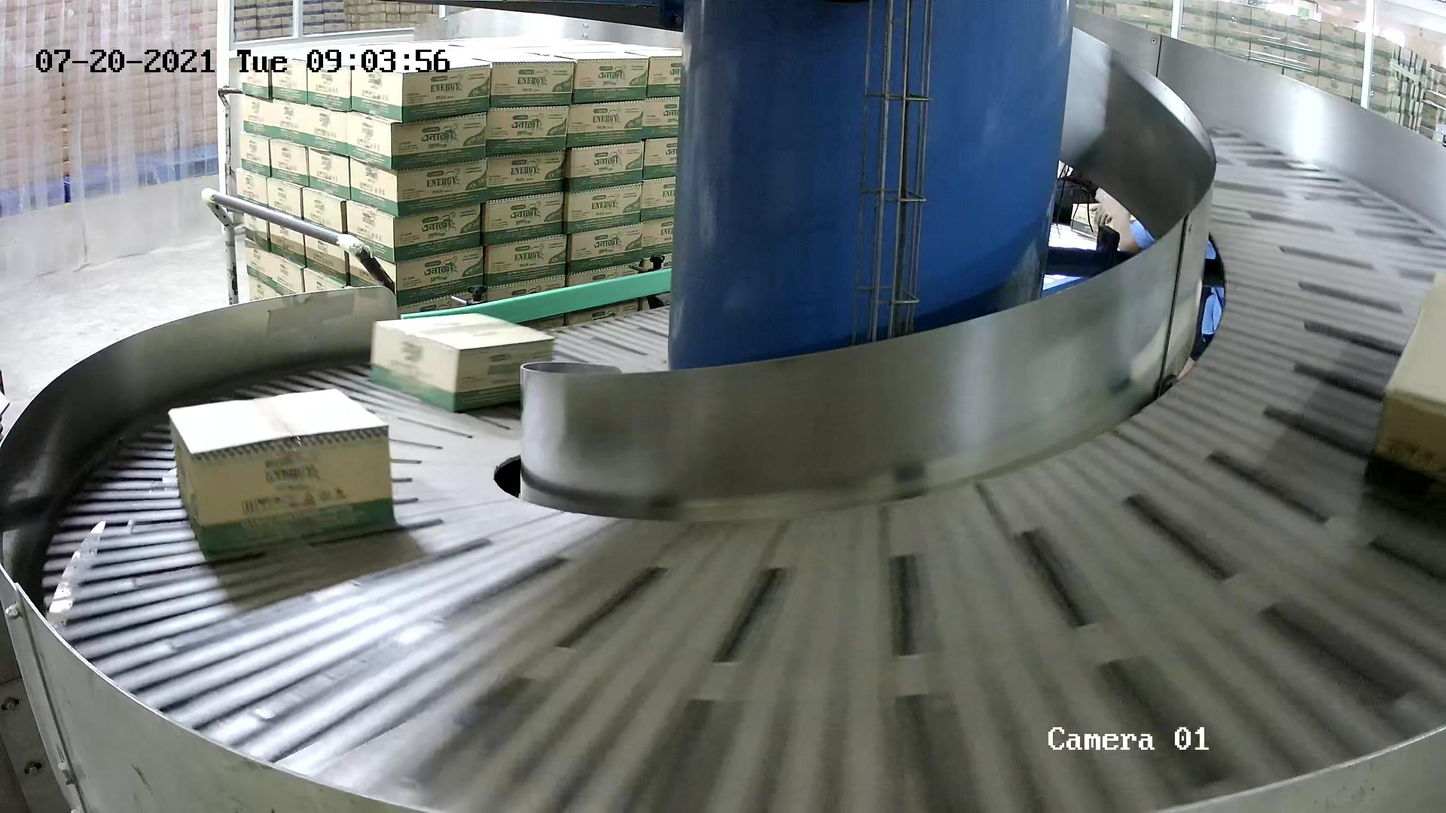Box: (165, 384, 396, 555), (1360, 264, 1446, 526), (369, 311, 556, 413)
